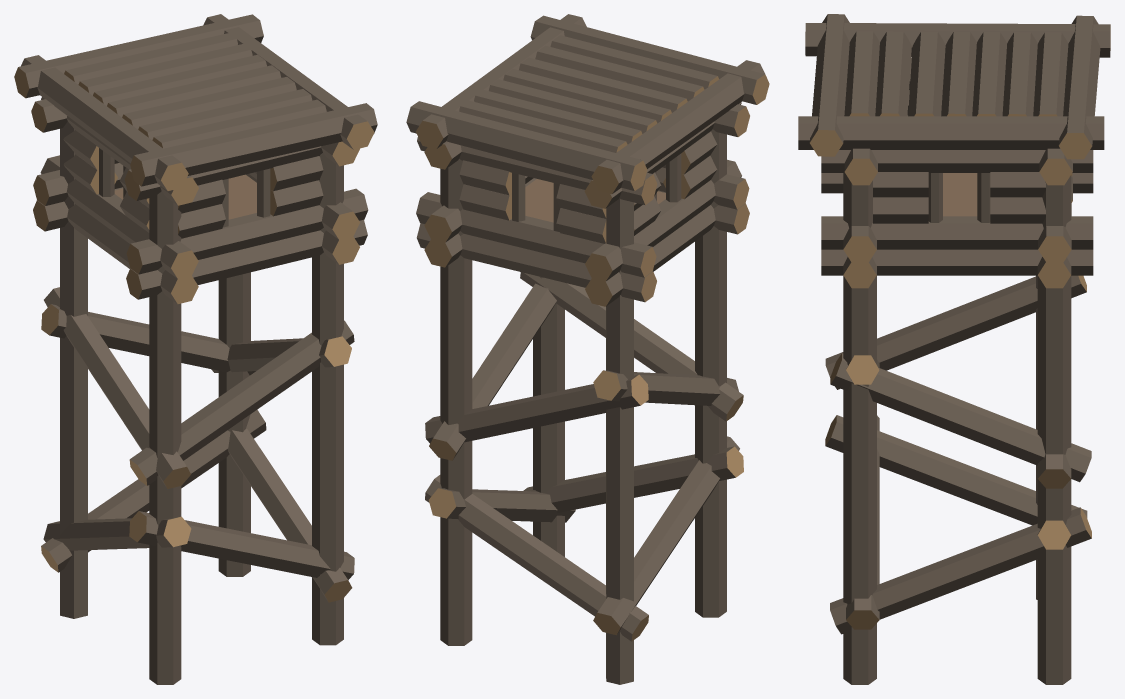
File: xjsot.fbx
The picture shows the model from 3 angles, left to right: view 1: azimuth 30°, elevation 25°; view 2: azimuth 150°, elevation 25°; view 3: azimuth 270°, elevation 25°; orthographic projection. The views are drawn at different scales.
Parts seen in each view (by area): view 1: Cube.007_low.002; view 2: Cube.007_low.002; view 3: Cube.007_low.002.
Part boxes in pixels (x1=…): Cube.007_low.002: x1=14, y1=14, x2=377, y2=684; Cube.007_low.002: x1=406, y1=14, x2=769, y2=684; Cube.007_low.002: x1=798, y1=14, x2=1110, y2=684.
Bounding box in the file's own units: 285 × 626 × 315.
